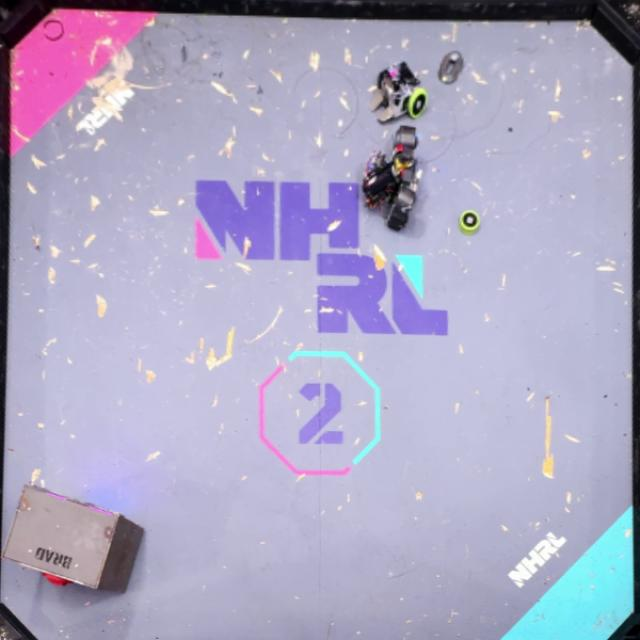housebot: (2, 483, 146, 594)
robot: (362, 125, 419, 233), (370, 62, 427, 124)
